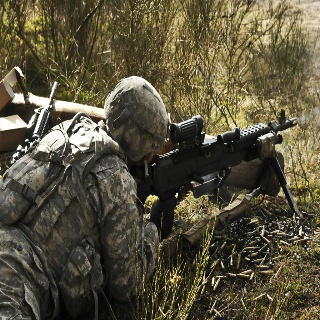rifle: (132, 108, 302, 241)
